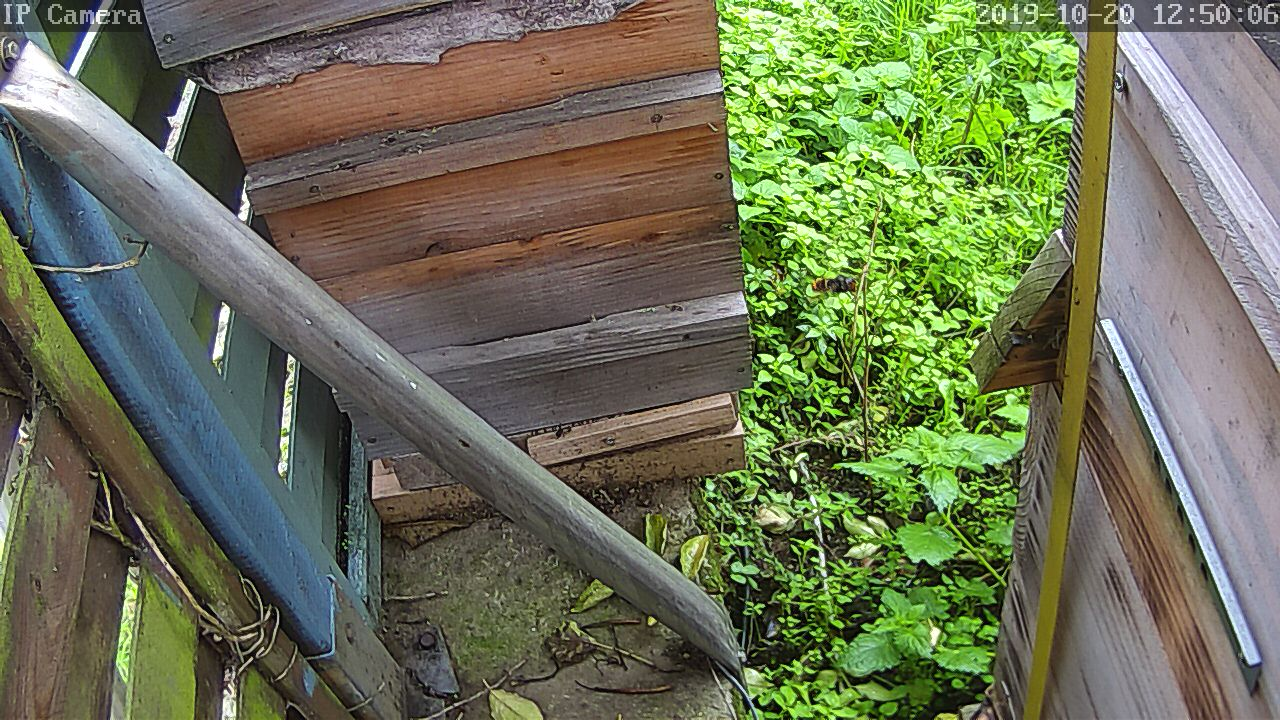hornet: (817, 267, 856, 303)
